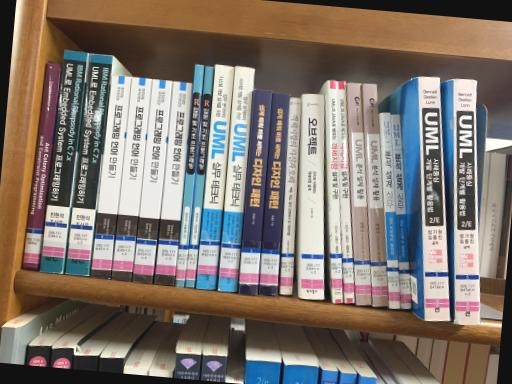book-spine: (38, 49, 88, 273), (64, 53, 113, 275), (196, 64, 234, 289), (111, 76, 152, 281), (218, 66, 255, 292), (90, 75, 131, 278), (21, 62, 60, 271), (417, 77, 450, 320), (133, 79, 172, 283), (154, 80, 192, 286), (238, 88, 273, 294), (451, 78, 479, 324), (258, 92, 291, 296), (184, 65, 214, 287), (175, 64, 204, 286), (361, 83, 387, 306), (299, 94, 325, 299), (347, 83, 371, 305), (336, 81, 355, 303), (280, 98, 301, 295), (379, 112, 399, 309), (392, 114, 411, 308), (327, 80, 342, 303)
